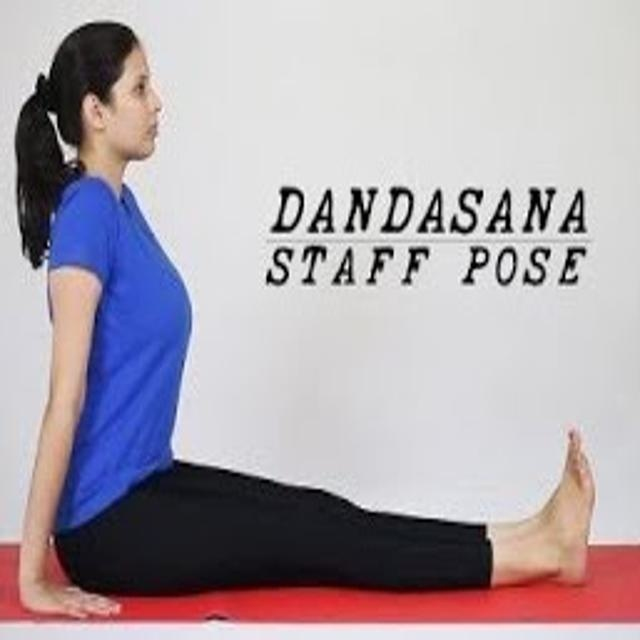Staff_Pose: (16, 20, 597, 620)
